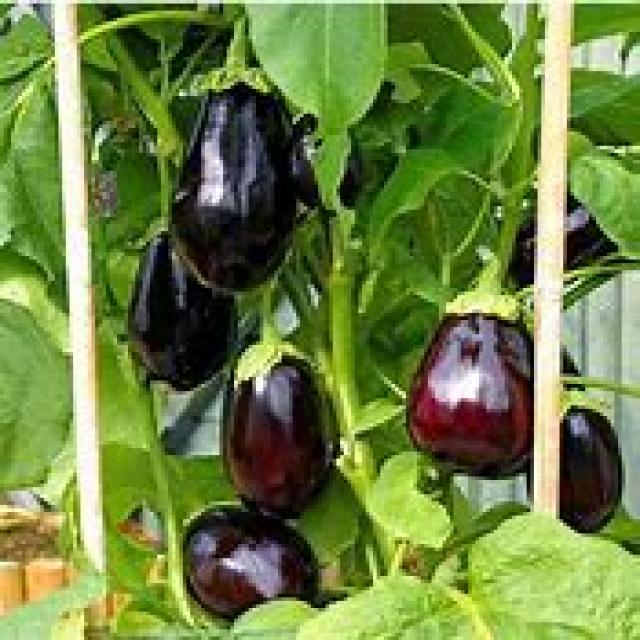eggplant: (174, 60, 291, 288), (404, 294, 529, 476), (220, 343, 333, 507), (185, 502, 318, 619)
